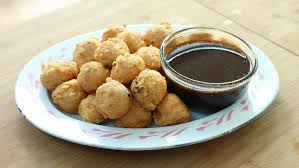Pempek adaan: (96, 78, 133, 119), (33, 59, 77, 91), (51, 75, 86, 113), (134, 67, 166, 106), (116, 101, 155, 129), (156, 96, 194, 124), (136, 41, 165, 73), (112, 55, 143, 83), (115, 26, 148, 52), (76, 59, 105, 88), (96, 38, 127, 64), (69, 35, 98, 62), (78, 93, 103, 121)
